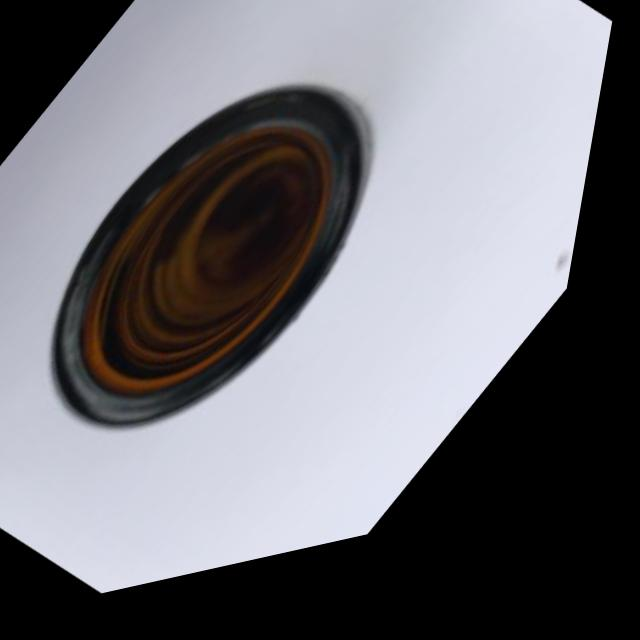glass: (0, 0, 486, 562)
